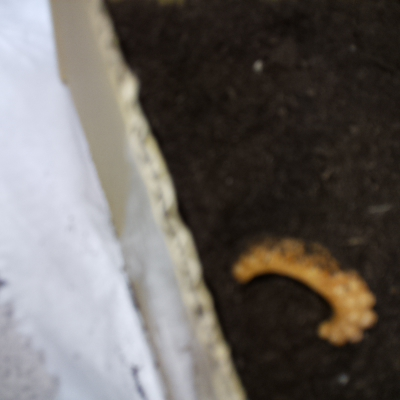eggs: (215, 221, 383, 352)
